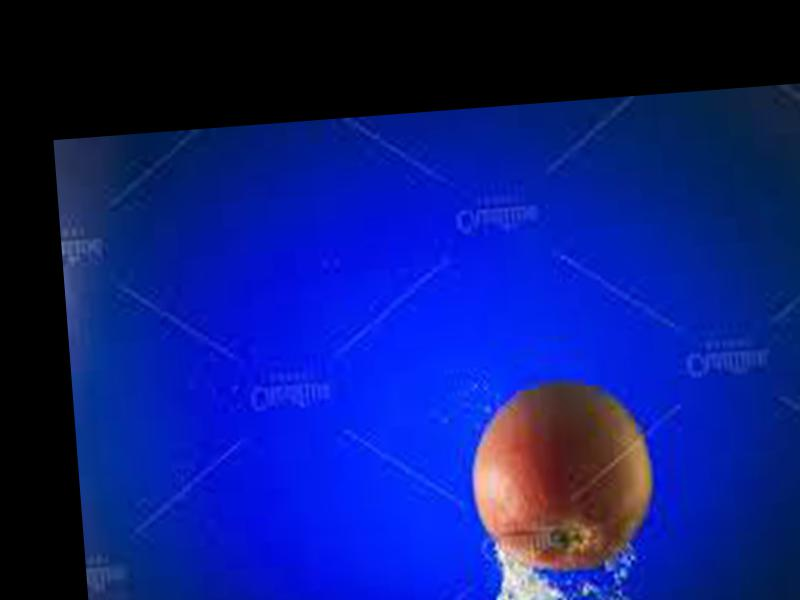Tomato: (467, 380, 660, 577)
